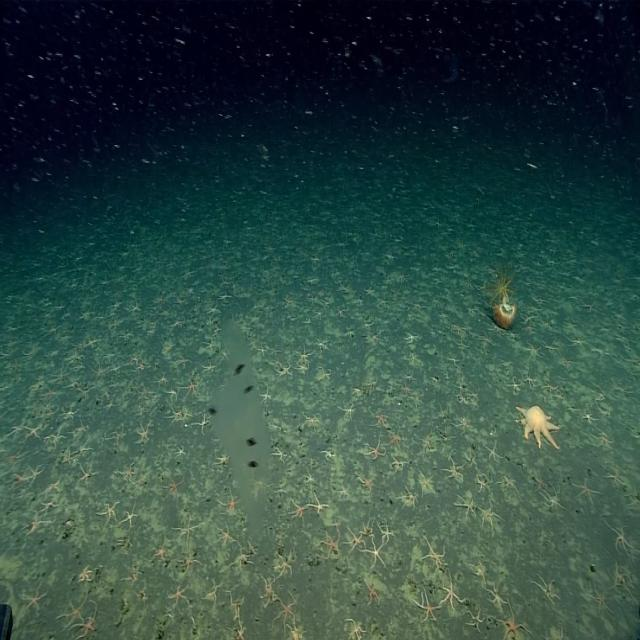brittle-stars: (608, 522, 636, 556), (274, 594, 298, 632), (499, 607, 526, 640), (586, 585, 613, 615), (78, 604, 100, 640), (22, 581, 47, 612), (441, 576, 463, 611), (416, 590, 440, 622), (423, 540, 446, 572), (536, 577, 562, 605), (121, 556, 143, 588), (174, 516, 199, 544), (112, 528, 137, 556), (319, 527, 340, 559), (62, 596, 85, 624), (574, 477, 598, 503), (586, 381, 612, 405), (40, 401, 62, 429), (364, 538, 384, 568), (480, 502, 500, 529), (136, 577, 152, 610), (98, 499, 119, 524), (162, 476, 185, 498), (344, 617, 366, 640), (24, 513, 45, 537), (220, 491, 241, 514), (168, 584, 189, 607), (345, 526, 365, 550), (445, 456, 465, 480), (57, 373, 81, 393), (276, 552, 294, 578), (346, 377, 364, 403), (456, 495, 476, 518), (594, 402, 614, 425), (487, 584, 506, 608), (418, 471, 436, 496), (263, 576, 278, 606), (544, 625, 574, 640), (615, 563, 632, 589), (105, 356, 122, 382), (366, 440, 386, 462), (40, 383, 60, 405), (77, 461, 96, 484), (151, 536, 167, 562), (216, 523, 234, 546), (401, 487, 419, 510), (272, 478, 290, 501), (387, 428, 404, 452), (235, 547, 252, 571), (542, 488, 562, 508), (179, 552, 199, 572), (364, 581, 379, 607), (467, 606, 483, 630), (454, 414, 473, 434), (604, 468, 624, 487), (123, 506, 140, 528), (205, 578, 221, 601), (531, 289, 550, 308), (485, 442, 502, 463), (358, 472, 374, 494), (230, 594, 246, 616), (298, 312, 314, 334), (288, 500, 306, 519), (310, 495, 328, 514), (108, 426, 126, 445), (40, 496, 59, 514), (46, 428, 66, 445), (121, 462, 137, 483), (136, 422, 151, 444), (304, 413, 322, 431), (182, 380, 200, 398), (78, 380, 96, 398), (595, 431, 614, 448), (124, 348, 141, 367), (379, 523, 395, 543), (566, 335, 586, 351), (28, 464, 44, 484), (134, 471, 150, 491), (136, 384, 153, 402), (71, 422, 88, 440), (45, 481, 62, 499), (78, 565, 94, 584), (213, 452, 230, 469), (564, 401, 581, 418), (526, 342, 542, 360), (540, 340, 558, 356), (373, 411, 389, 429), (520, 310, 539, 325), (473, 560, 487, 580), (247, 536, 259, 559), (273, 447, 289, 464), (26, 422, 42, 439), (478, 332, 494, 349), (7, 421, 23, 438), (287, 625, 305, 640), (10, 470, 28, 485), (591, 345, 610, 359), (421, 433, 433, 455), (298, 346, 314, 362), (500, 476, 516, 492), (75, 442, 91, 458), (523, 372, 538, 389), (251, 479, 266, 496), (234, 622, 248, 640), (364, 376, 378, 394), (197, 414, 210, 433), (627, 491, 640, 510), (391, 456, 406, 472), (174, 353, 190, 368), (162, 340, 177, 356), (54, 366, 70, 381), (67, 350, 83, 365), (91, 362, 105, 379), (120, 324, 134, 341), (477, 475, 490, 493), (394, 269, 409, 284), (464, 301, 479, 316), (342, 404, 356, 420), (168, 407, 182, 423), (584, 409, 598, 425), (408, 350, 422, 366), (72, 358, 86, 374), (506, 328, 520, 344), (534, 475, 547, 492), (464, 451, 477, 468), (435, 407, 448, 424), (262, 386, 274, 404), (318, 366, 332, 381), (405, 332, 420, 346), (202, 360, 217, 374), (165, 387, 179, 402), (64, 407, 78, 422), (87, 335, 101, 350), (338, 484, 351, 500), (539, 313, 552, 329), (218, 347, 230, 364), (278, 362, 292, 376), (79, 307, 93, 321), (510, 376, 522, 392), (294, 361, 308, 374), (544, 379, 558, 392), (367, 332, 381, 345), (204, 339, 217, 353), (321, 448, 334, 462), (316, 338, 329, 352), (412, 300, 426, 313), (456, 338, 469, 352), (522, 322, 535, 336), (582, 302, 597, 314), (63, 450, 74, 466), (412, 390, 423, 406), (403, 378, 413, 395), (171, 317, 184, 330), (564, 319, 577, 332), (341, 281, 354, 294), (270, 344, 282, 358), (249, 312, 261, 326), (452, 322, 466, 334), (448, 354, 460, 367), (130, 302, 142, 315), (110, 299, 122, 312), (176, 446, 187, 460), (457, 391, 468, 405), (471, 386, 482, 400), (158, 374, 169, 388), (208, 302, 220, 314), (337, 307, 349, 319), (361, 318, 373, 330), (136, 359, 147, 372), (217, 290, 230, 301), (378, 294, 389, 307), (281, 345, 291, 359), (314, 308, 325, 320), (219, 277, 230, 289), (156, 292, 167, 304), (181, 409, 191, 422), (391, 287, 402, 298), (306, 472, 316, 484), (256, 346, 266, 358), (354, 294, 364, 306), (456, 380, 466, 392), (364, 285, 374, 296), (161, 307, 171, 318), (304, 291, 314, 302), (555, 391, 566, 401), (248, 338, 257, 350), (469, 398, 479, 408), (284, 296, 294, 306)
